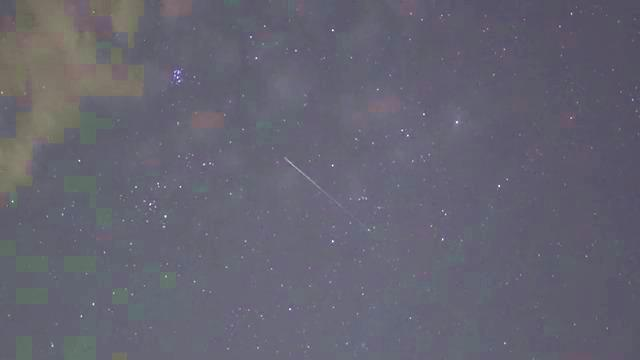meteorite: (265, 155, 357, 208), (37, 337, 65, 352)
